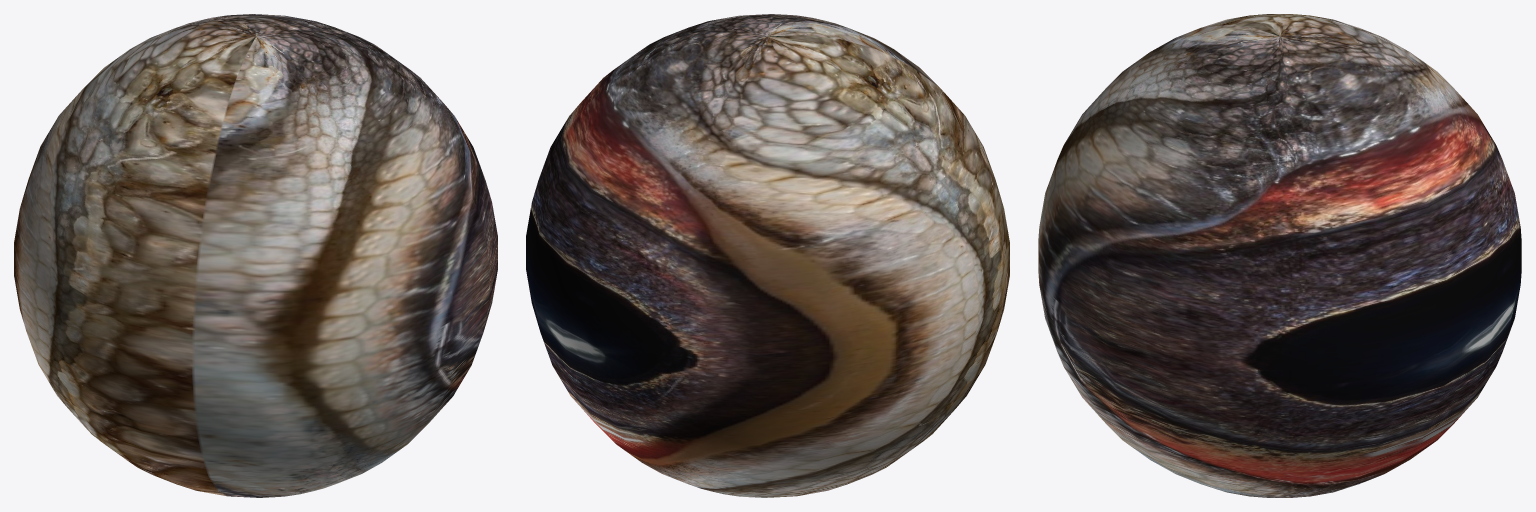
File: eye.gltf
3 renders of one model, left to right at view 1: azimuth 30°, elevation 25°; view 2: azimuth 150°, elevation 25°; view 3: azimuth 270°, elevation 25°, orthographic.
Parts seen in each view (by area): view 1: SphèreSurf; view 2: SphèreSurf; view 3: SphèreSurf.
Part boxes in pixels (bbox=[...]): SphèreSurf: bbox=[14, 14, 497, 497]; SphèreSurf: bbox=[526, 14, 1009, 497]; SphèreSurf: bbox=[1038, 14, 1521, 497].
Size of the model in its own units: 4.36 by 4.37 by 4.36.
Materials: 1 (1 with a texture image).
